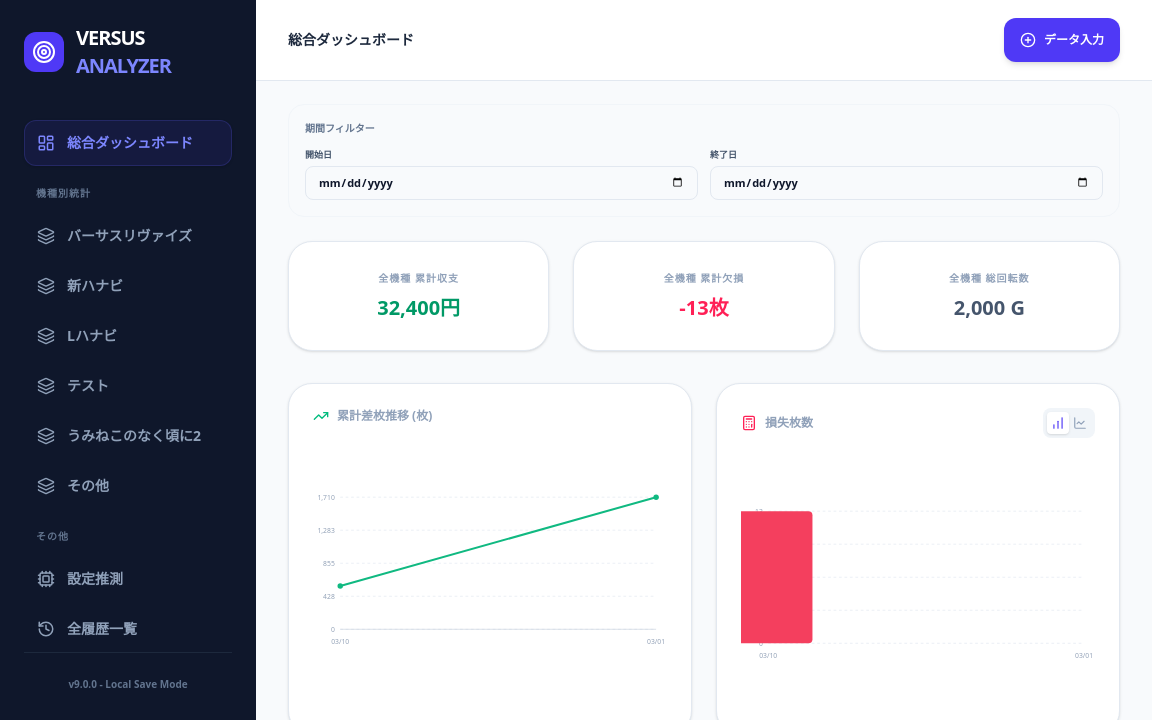
Test: App › does not submit the form when changing the lending rate
The image size is (1152, 720).
What coordinates should you click on to do the following:
click the button "データ入力"
I would click on:
 (1062, 40)
Its box is [1004,18,1120,62].
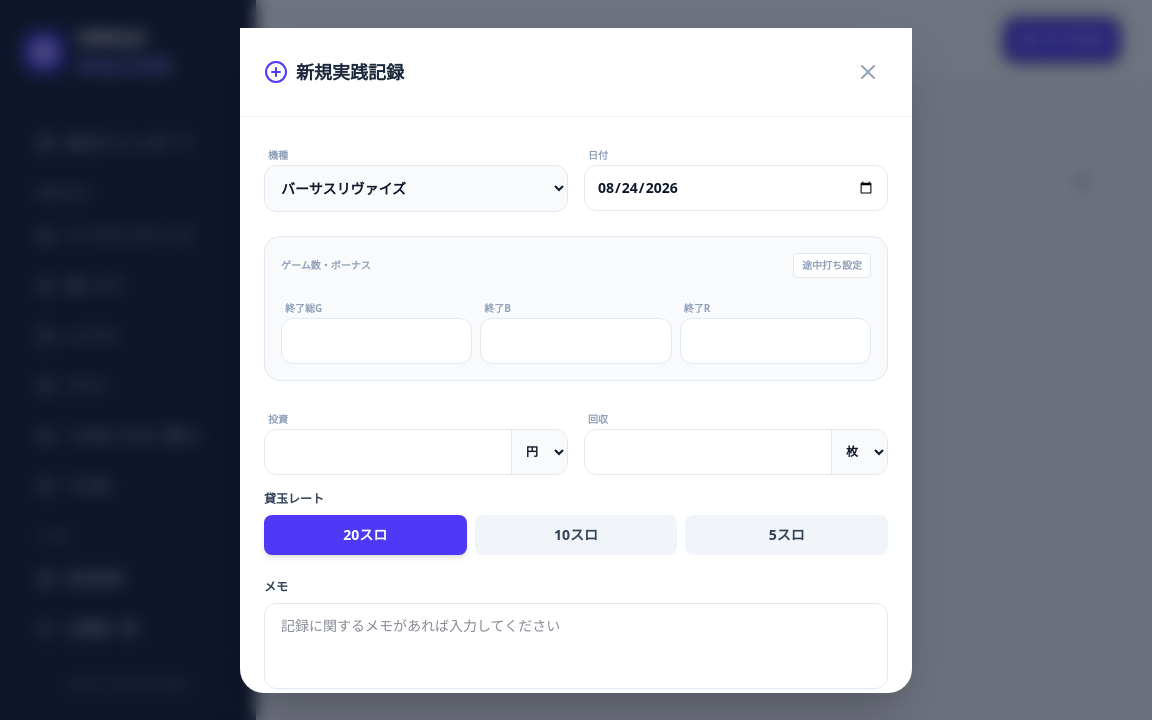
Now the button "10スロ" is shown
What coordinates should you click on to do the following:
click the button "10スロ"
I would click on:
 (576, 534)
Its box is [475,514,677,554].
(page scrolled)
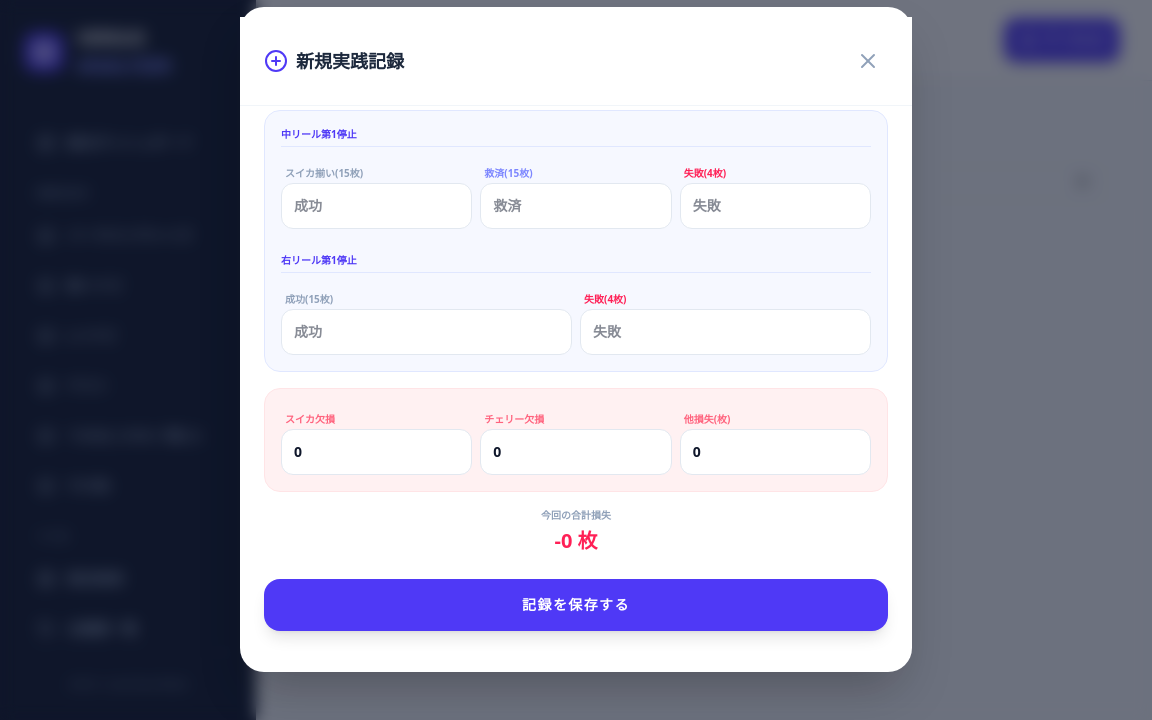
Now the button "記録を保存する" is shown, box [264,579,888,631]
